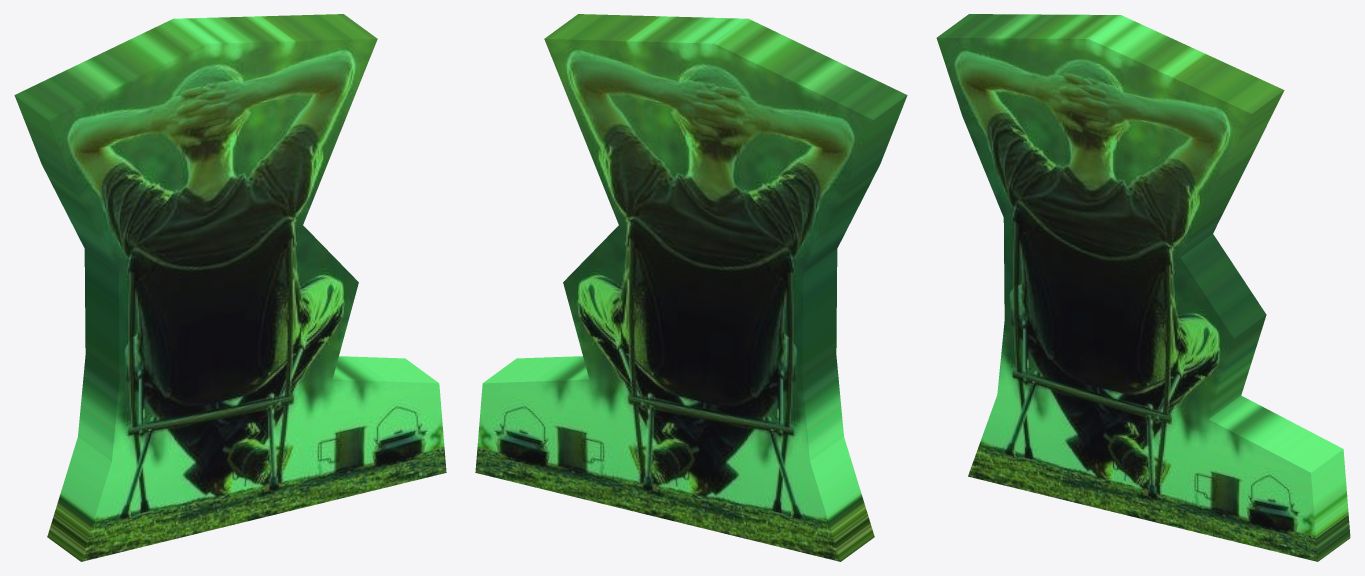
File: Relax.glb
The picture shows the model from 3 angles, left to right: view 1: azimuth 30°, elevation 25°; view 2: azimuth 150°, elevation 25°; view 3: azimuth 330°, elevation 25°; orthographic projection. The views are drawn at different scales.
Parts seen in each view (by area): view 1: Cube.004; view 2: Cube.004; view 3: Cube.004.
Boxes of the visible parts, <box> form: Cube.004: <box>14,14,446,561</box>; Cube.004: <box>475,14,907,561</box>; Cube.004: <box>936,14,1350,561</box>.
Size of the model in its own units: 2.33 by 2.73 by 0.3454.
Materials: 1 (1 with a texture image).
